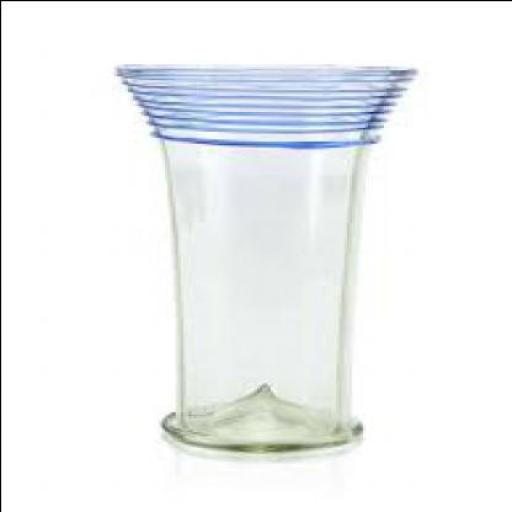glass: (116, 61, 419, 449)
